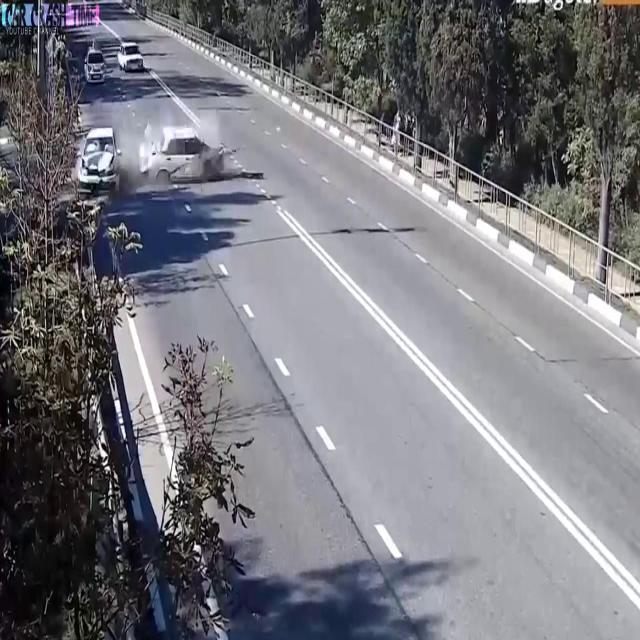accident: (70, 115, 232, 205)
non_accident: (80, 35, 146, 90)
